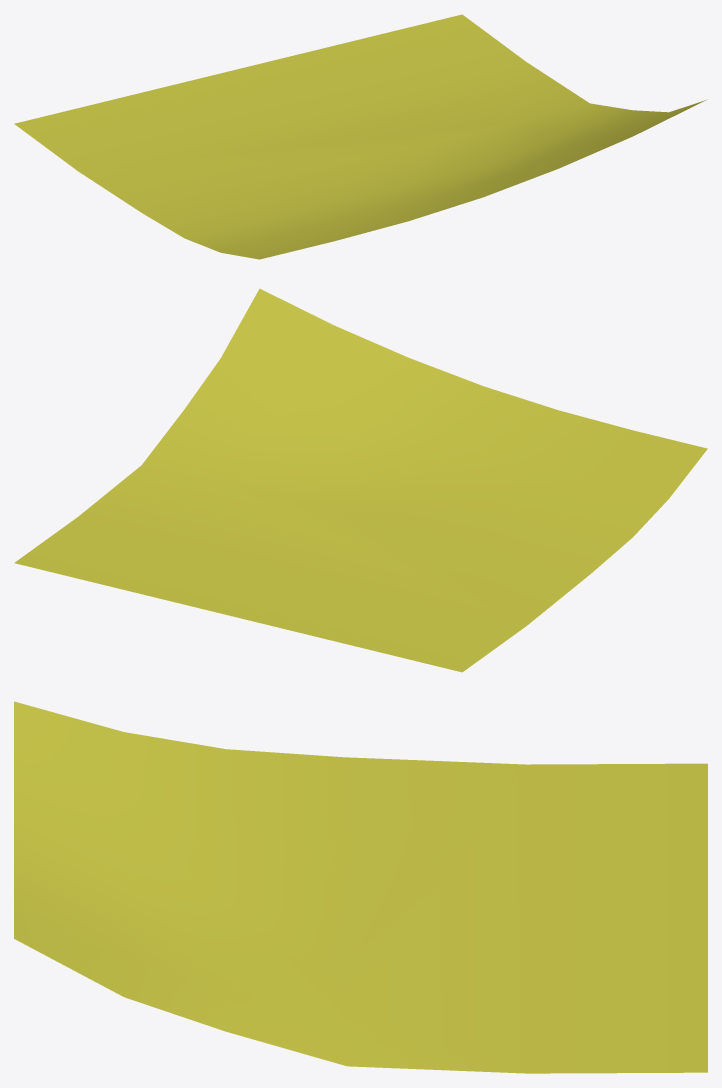
The model's file is S_PostIt1.fbx.
3 views of the same model, one above another, from view 1: azimuth 30°, elevation 25°; view 2: azimuth 150°, elevation 25°; view 3: azimuth 270°, elevation 25° (orthographic). The views are drawn at different scales.
Visible parts, largest first — view 1: PostIt3; view 2: PostIt3; view 3: PostIt3.
Boxes of the visible parts, x1,y1,x2,y2 form: PostIt3: (14,14,707,259); PostIt3: (14,288,707,672); PostIt3: (14,701,707,1073).
Bounding box in the file's own units: 3.23 × 0.6578 × 3.07.
